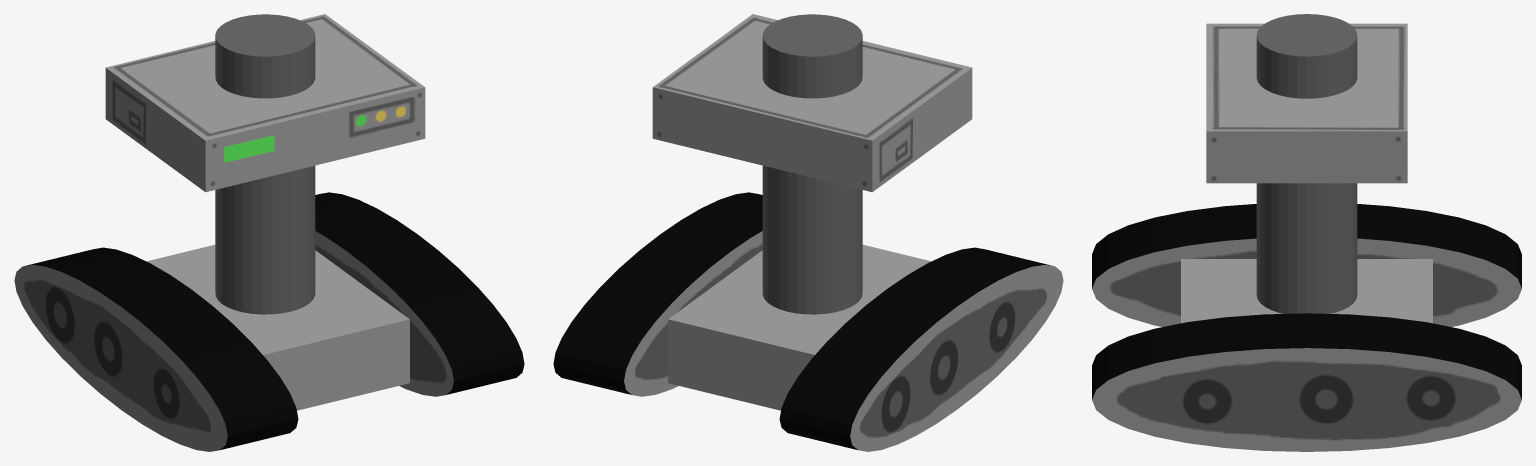
The model's file is playerbody.obj.
The picture shows the model from 3 angles, left to right: view 1: azimuth 30°, elevation 25°; view 2: azimuth 150°, elevation 25°; view 3: azimuth 270°, elevation 25°; orthographic projection.
Visible parts, largest first — view 1: 円柱.001; view 2: 円柱.001; view 3: 円柱.001.
Part boxes in pixels (x1,y1,x2,y2): 円柱.001: [14, 14, 524, 451]; 円柱.001: [553, 14, 1063, 451]; 円柱.001: [1092, 14, 1521, 451].
Bounding box in the file's own units: 1.59 × 1.74 × 1.98.
1 material, 1 textured.
